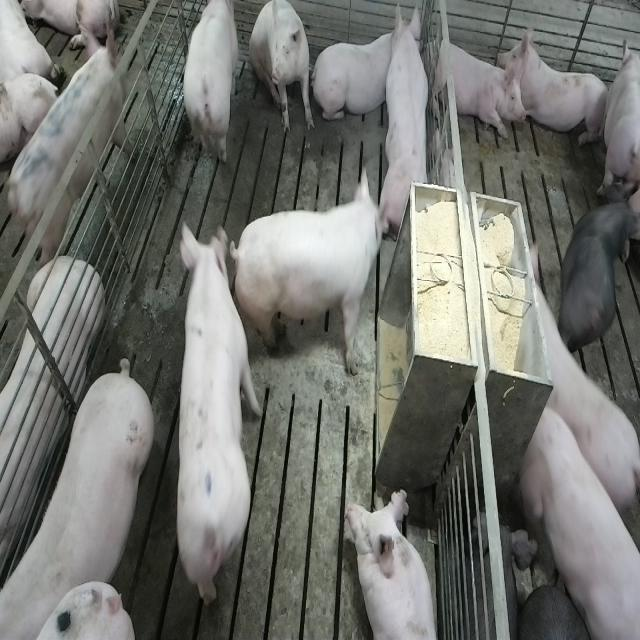Feeding: (228, 168, 386, 388)
Lateral_lying: (0, 260, 102, 584)
Sitting: (380, 8, 434, 241), (248, 1, 314, 137)
Standing: (0, 26, 131, 292), (179, 220, 264, 616), (518, 407, 638, 640), (534, 299, 638, 521), (557, 187, 638, 360), (182, 0, 241, 169)
Sternal_lying: (346, 487, 442, 640), (500, 19, 610, 149), (426, 31, 524, 142), (314, 29, 406, 124)
